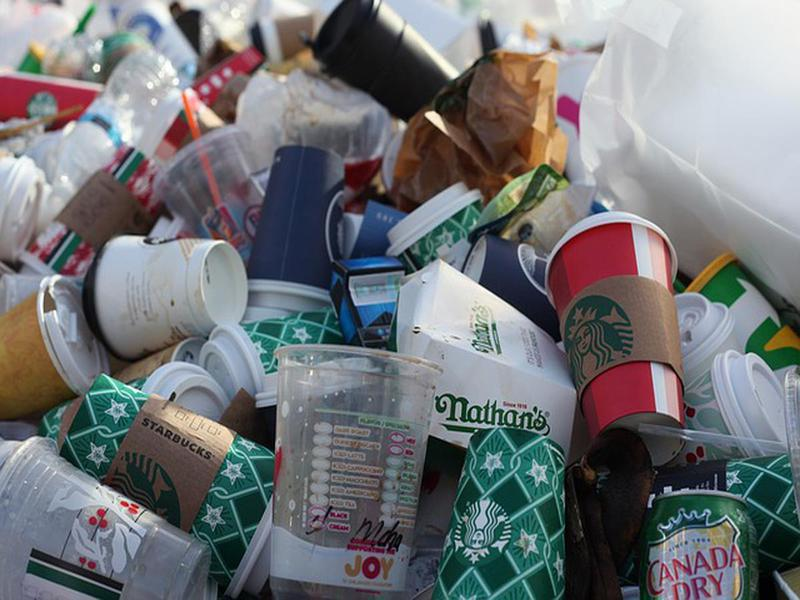can: (638, 485, 764, 600)
cardboard: (392, 264, 569, 455)
cup: (260, 341, 442, 600), (1, 434, 221, 600), (534, 210, 691, 438), (422, 423, 575, 600), (84, 229, 250, 359), (243, 138, 349, 319)
